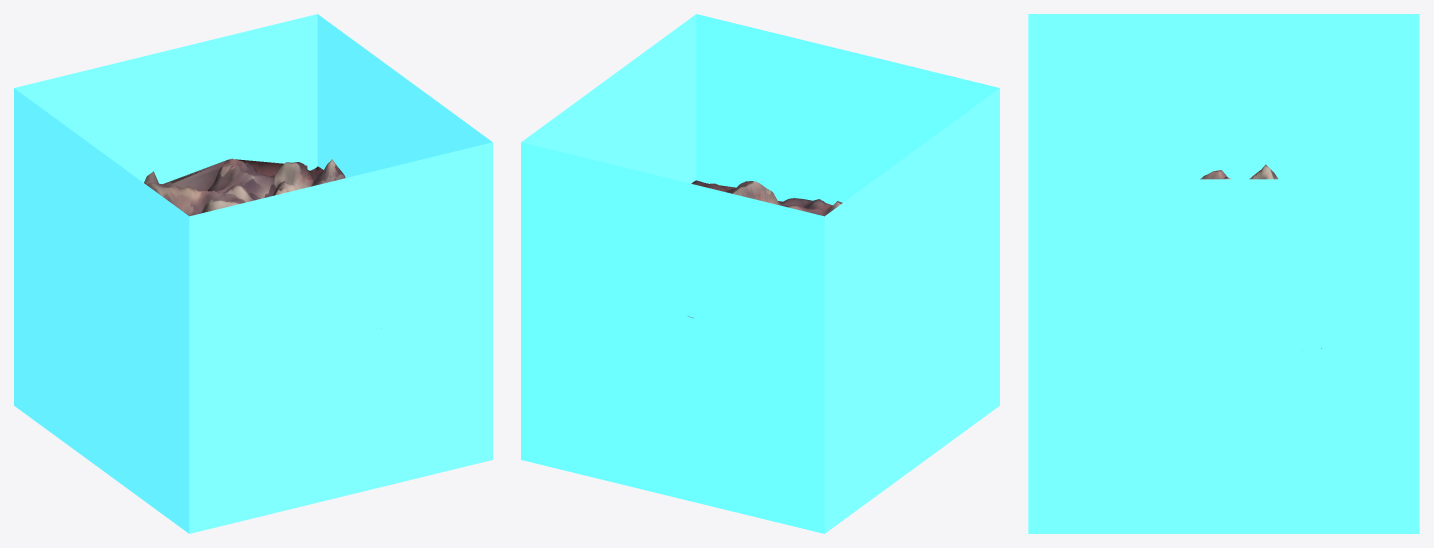
3 renders of one model, left to right at view 1: azimuth 30°, elevation 25°; view 2: azimuth 150°, elevation 25°; view 3: azimuth 270°, elevation 25°, orthographic. The views are drawn at different scales.
Visible parts, largest first — view 1: Cube.015, Landscape.001; view 2: Cube.015, Landscape.001; view 3: Cube.015.
Boxes of the visible parts, x1,y1,x2,y2 form: Cube.015: (14,14,492,533); Landscape.001: (144,158,345,216); Cube.015: (521,14,999,533); Landscape.001: (688,180,842,318); Cube.015: (1028,14,1419,533).
Bounding box in the file's own units: 358479 × 358479 × 358479.
